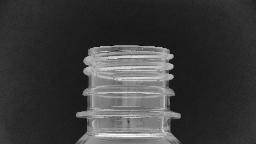No Cap: (72, 39, 186, 123)
